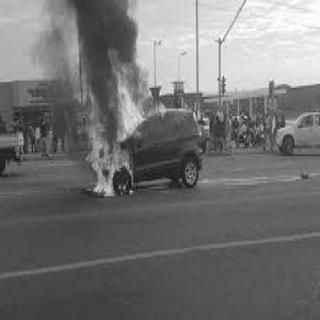Fire: (87, 51, 164, 201)
